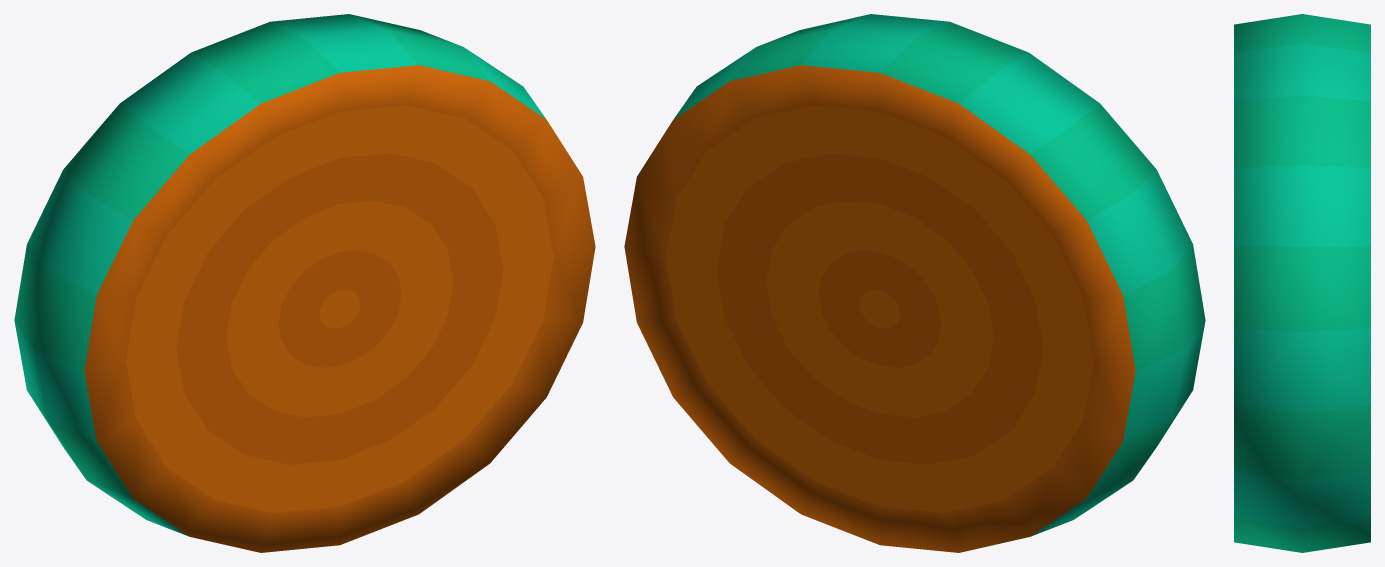
Rendered from Onion_slice_04.fbx.
The picture shows the model from 3 angles, left to right: view 1: azimuth 30°, elevation 25°; view 2: azimuth 150°, elevation 25°; view 3: azimuth 270°, elevation 25°; orthographic projection. The views are drawn at different scales.
Parts seen in each view (by area): view 1: Onion_slice_04; view 2: Onion_slice_04; view 3: Onion_slice_04.
Part boxes in pixels (bbox=[...]): Onion_slice_04: bbox=[14, 14, 595, 552]; Onion_slice_04: bbox=[624, 14, 1205, 552]; Onion_slice_04: bbox=[1234, 14, 1370, 552].
Bounding box in the file's own units: 65.19 × 14.61 × 56.45.
